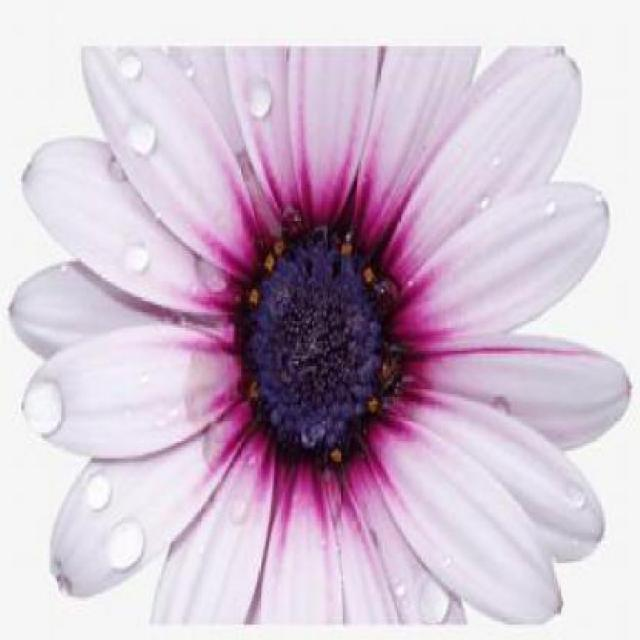Flower: (9, 44, 633, 638), (246, 230, 394, 461)
